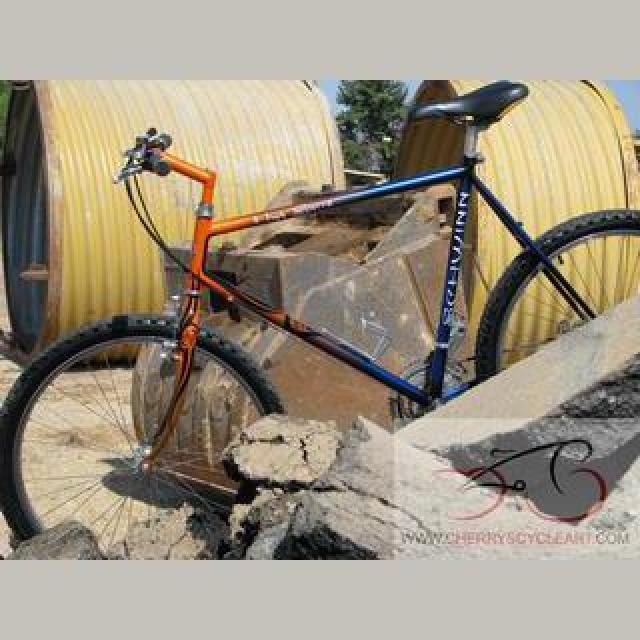Person: (2, 82, 636, 560)
